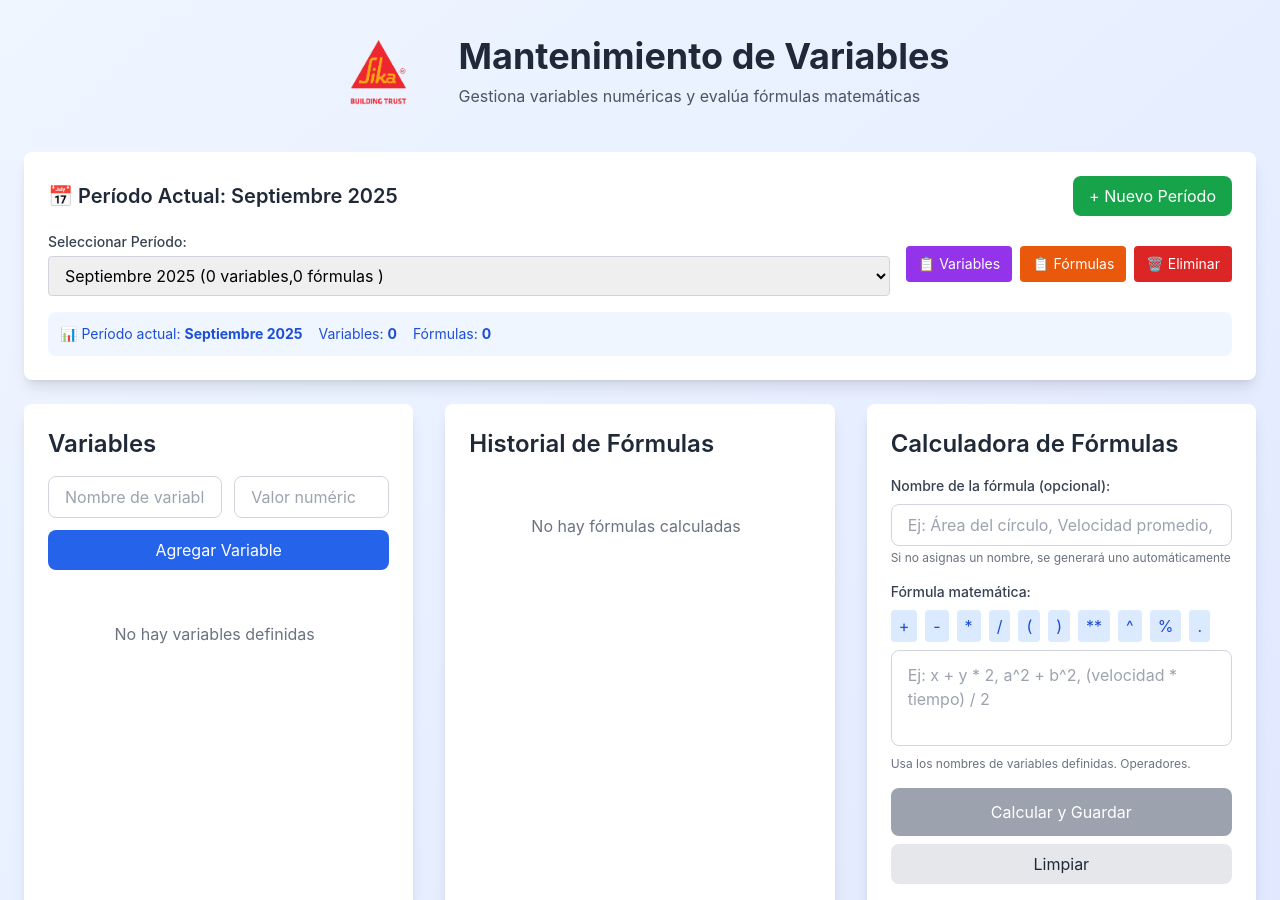
Test: puede agregar una variable
Step 1. Type "x" into the field with placeholder "Nombre de variable (ej: x, a, velocidad)" → point(135, 497), box [48,476,222,518]
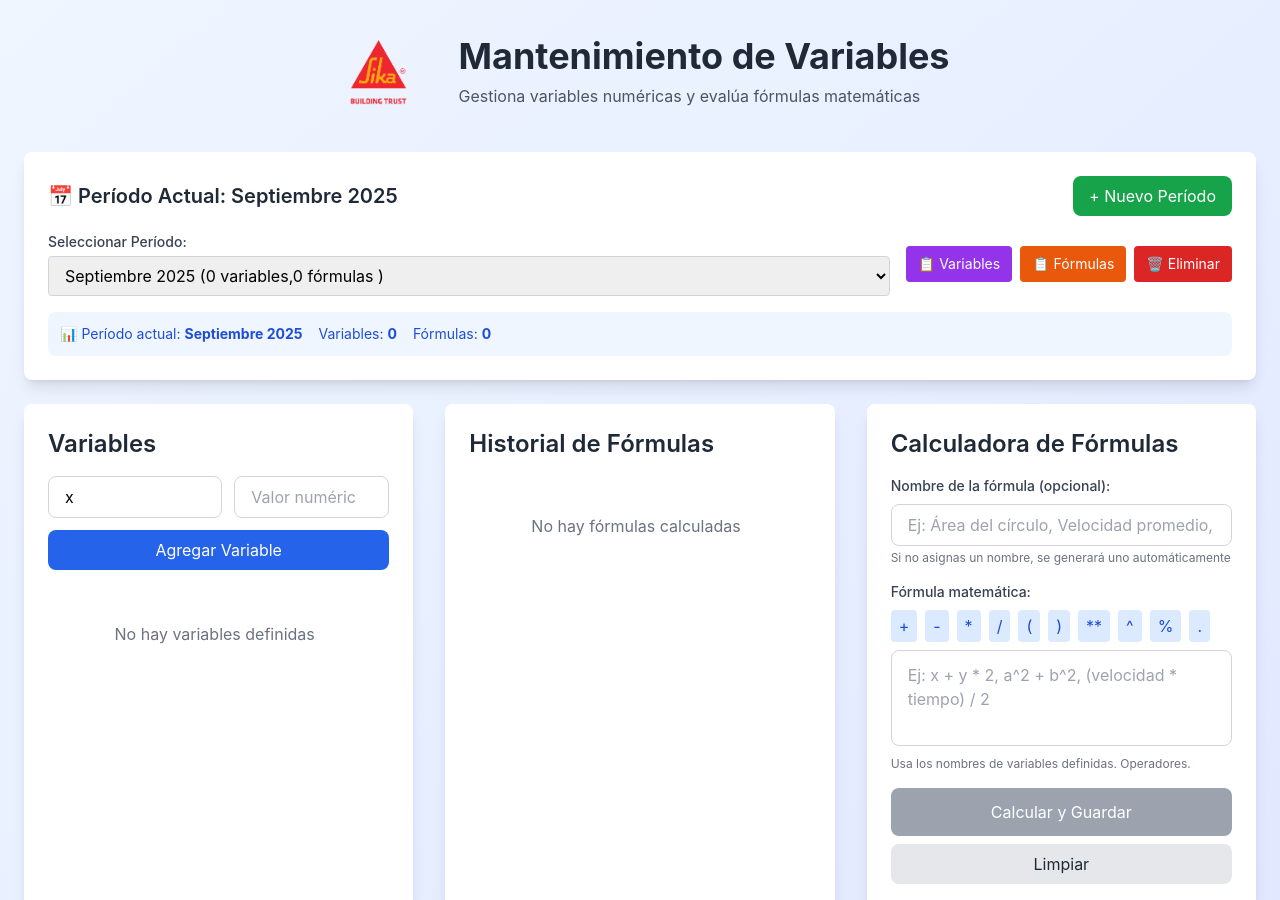
Step 2. Type "10" into the number field with placeholder "Valor numérico" → point(312, 497), box [234,476,389,518]
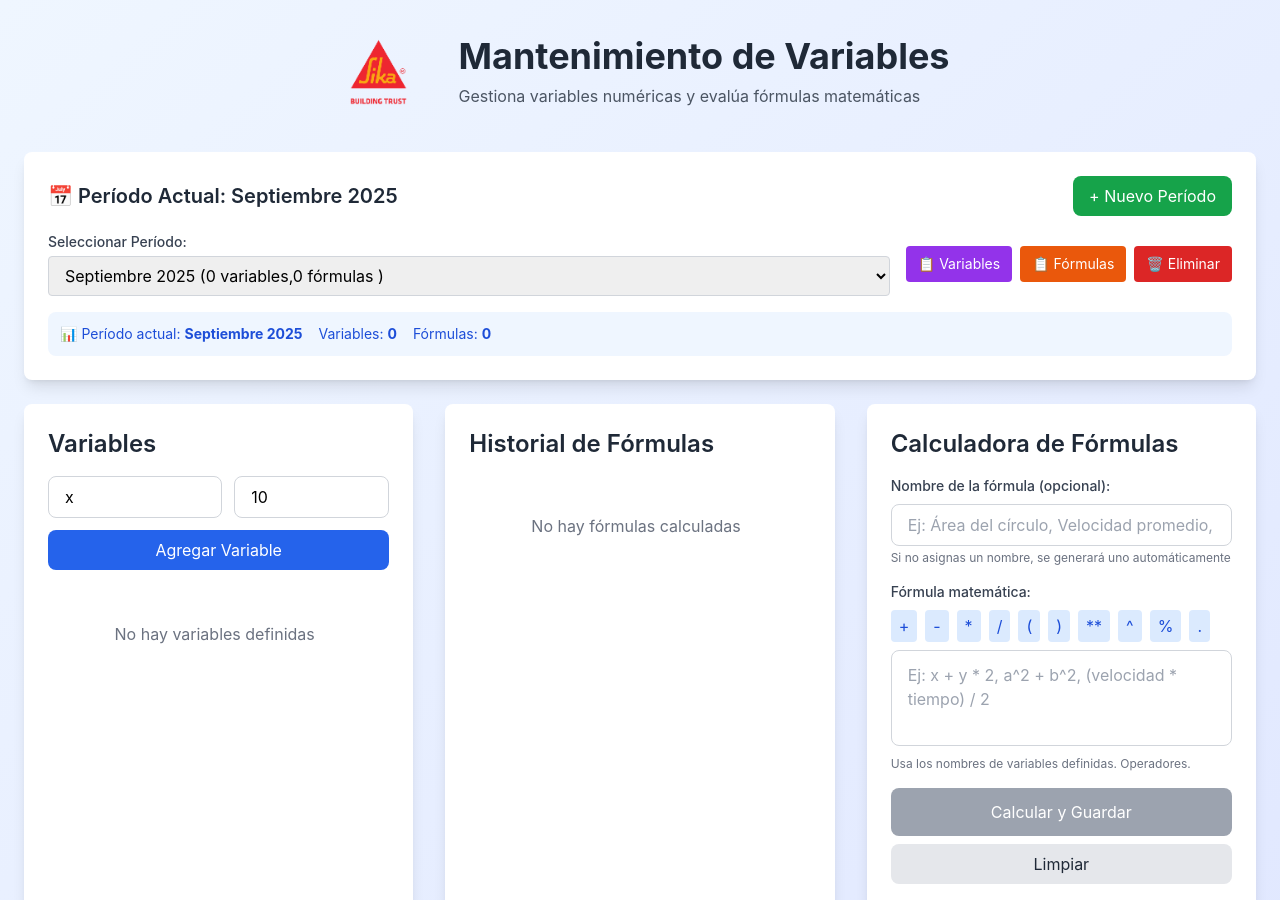
Step 3. Click the button "Agregar Variable" → point(219, 550), box [48,530,389,570]
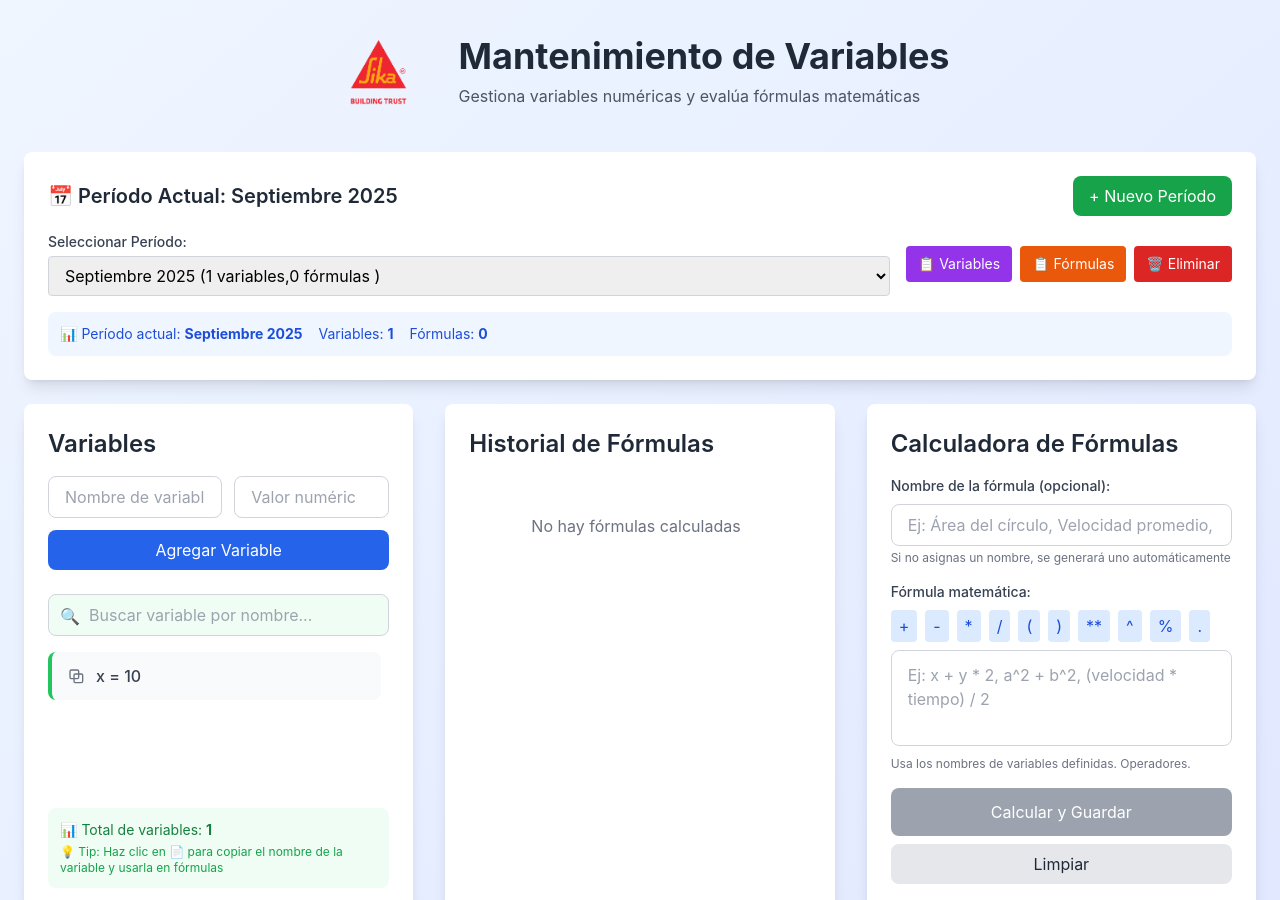
Now the text "x = 10" is shown, box [96,664,141,688]
